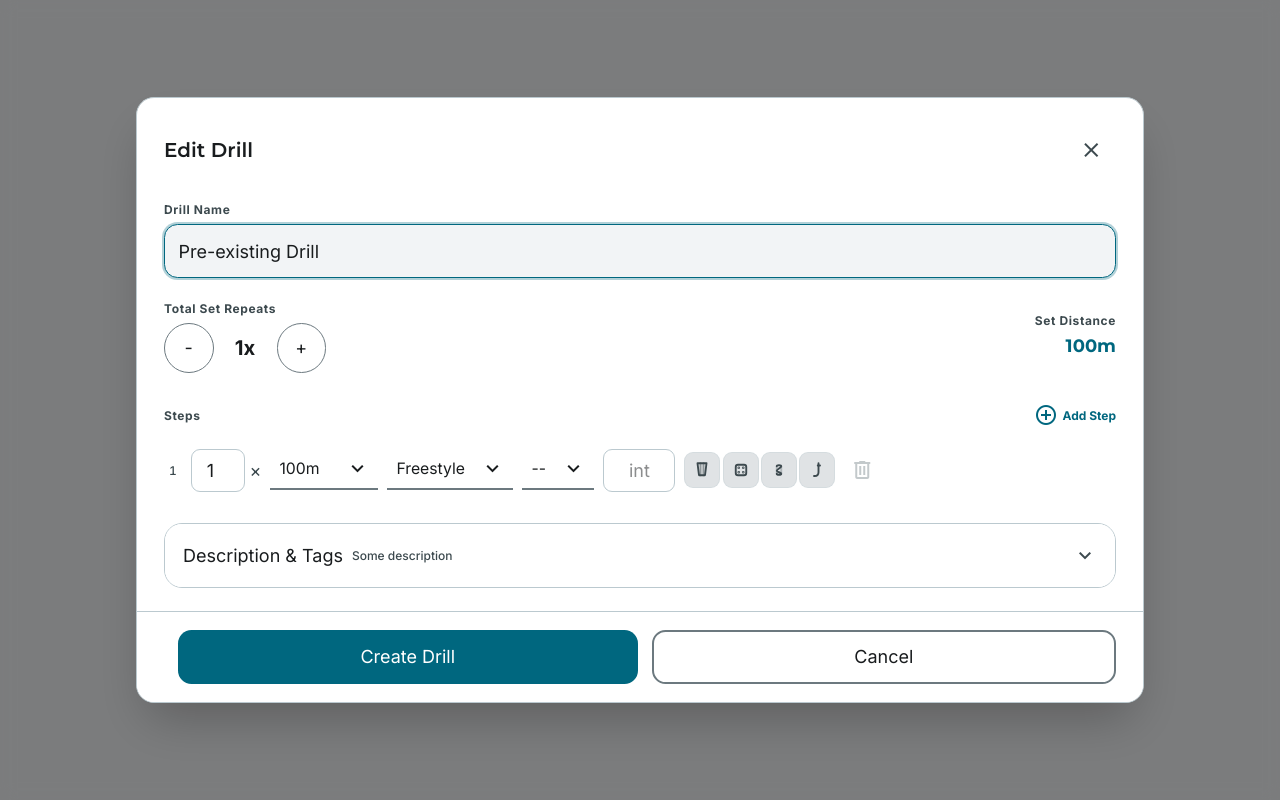
Test: DrillEditorModal › pre-fills fields in edit mode
The width and height of the screenshot is (1280, 800).
Expected: the field with placeholder "e.g. Pyramid Set or 8x100m Progression" holds "Pre-existing Drill", left=164, top=224, right=1116, bottom=278
Click the button "Description & Tags Some description" at (263, 556), box left=165, top=524, right=1115, bottom=587
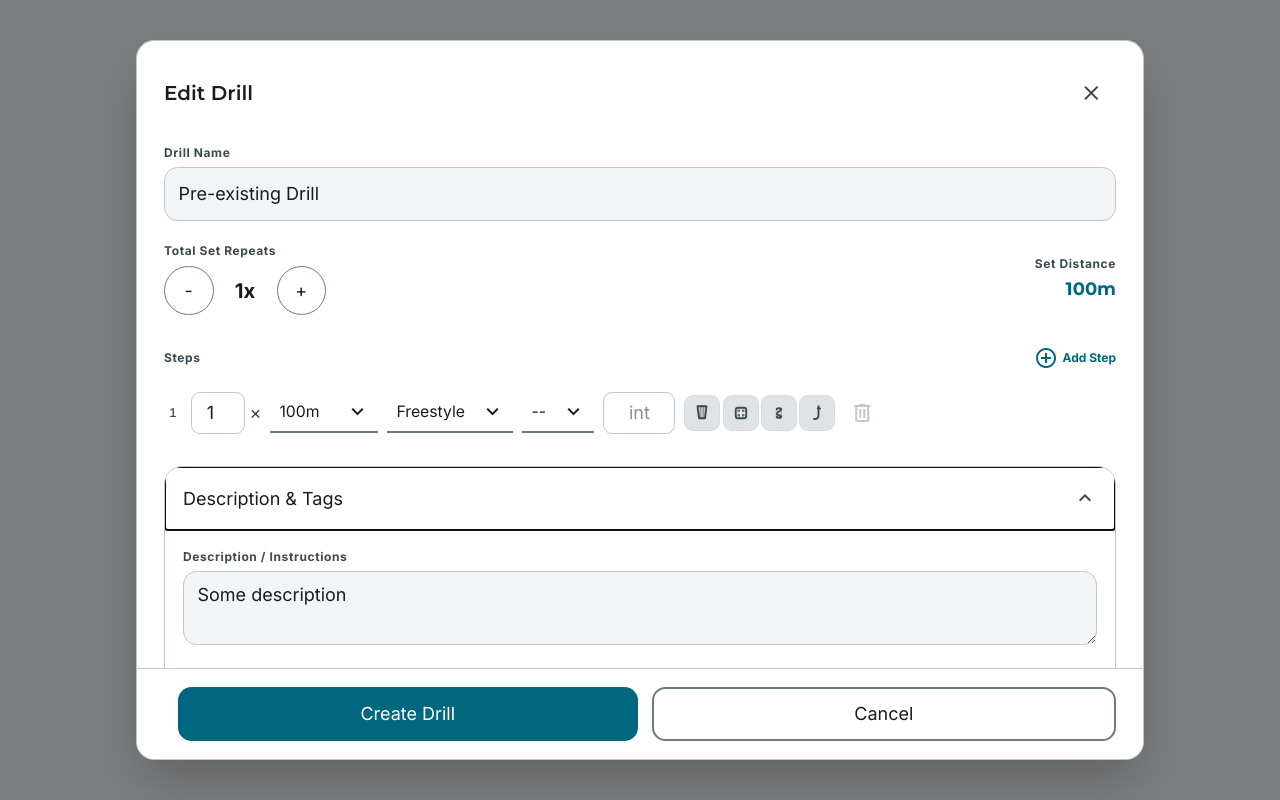
Expected: the text box with placeholder "6-1-6 breathing" holds "Some description", left=183, top=571, right=1097, bottom=645
